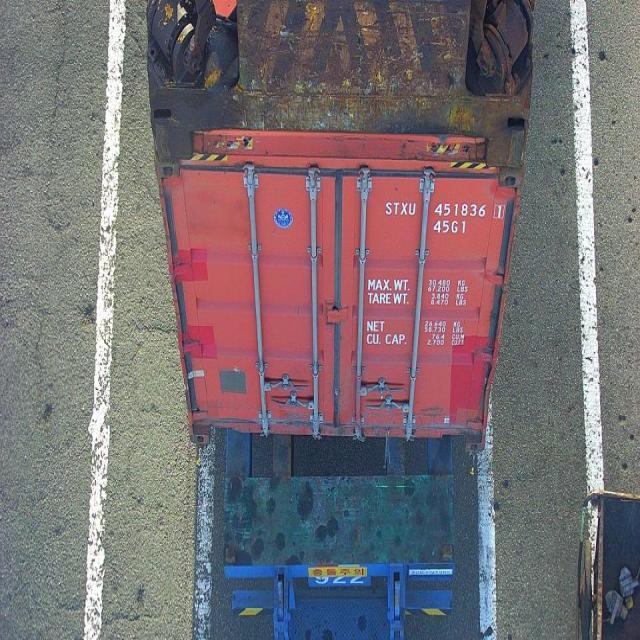ISO: (434, 218, 468, 236)
container_number: (383, 202, 502, 217)
